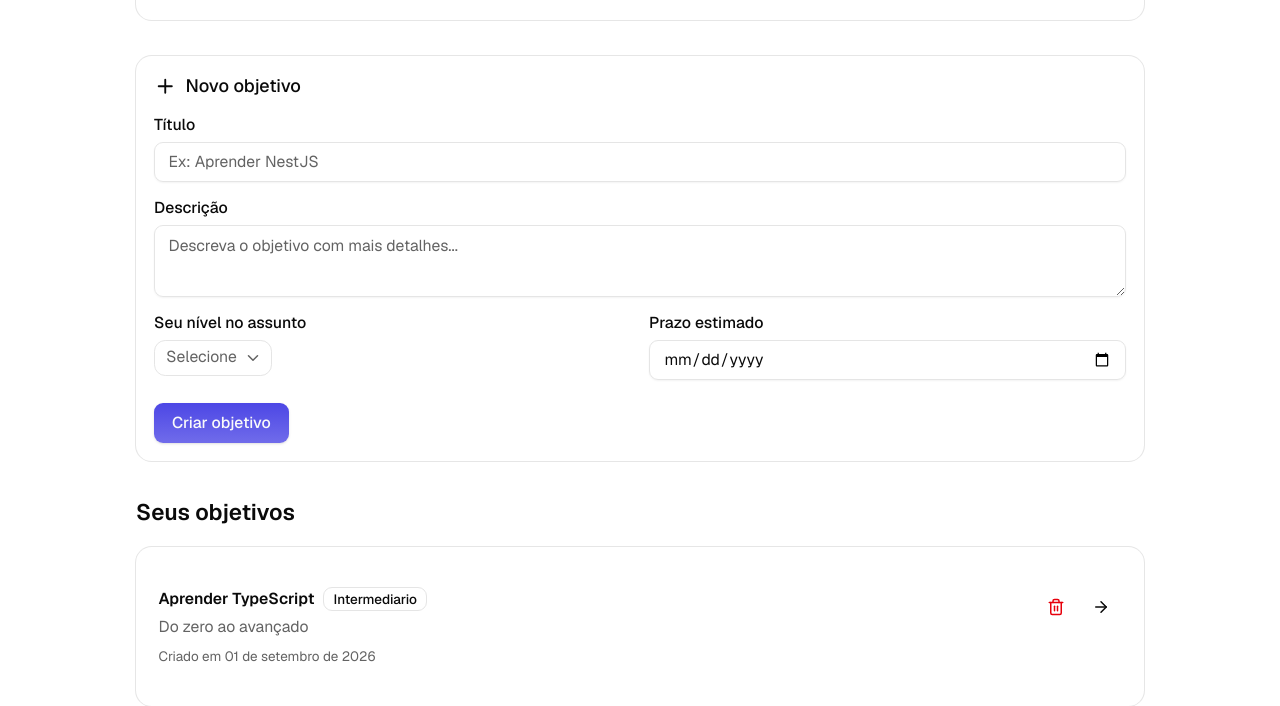
Página de Objetivos › exclui o objetivo após confirmação no dialog
(page scrolled)
Click the button named "Excluir objetivo Aprender TypeScript" at (1056, 607), box [1036,587,1076,628]
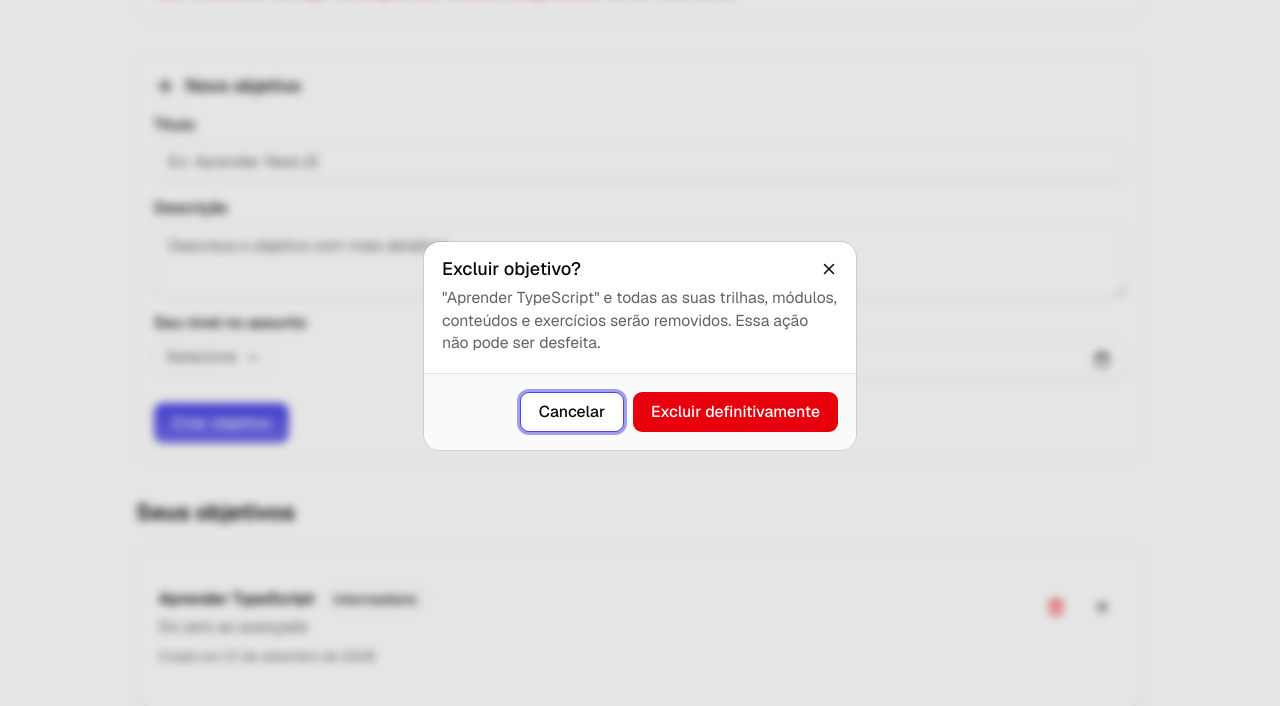
Expected: the heading "Excluir objetivo?" is shown, [442,257,581,280]
Click the button "Excluir definitivamente" at (736, 412), box [633,392,838,432]
(page scrolled)
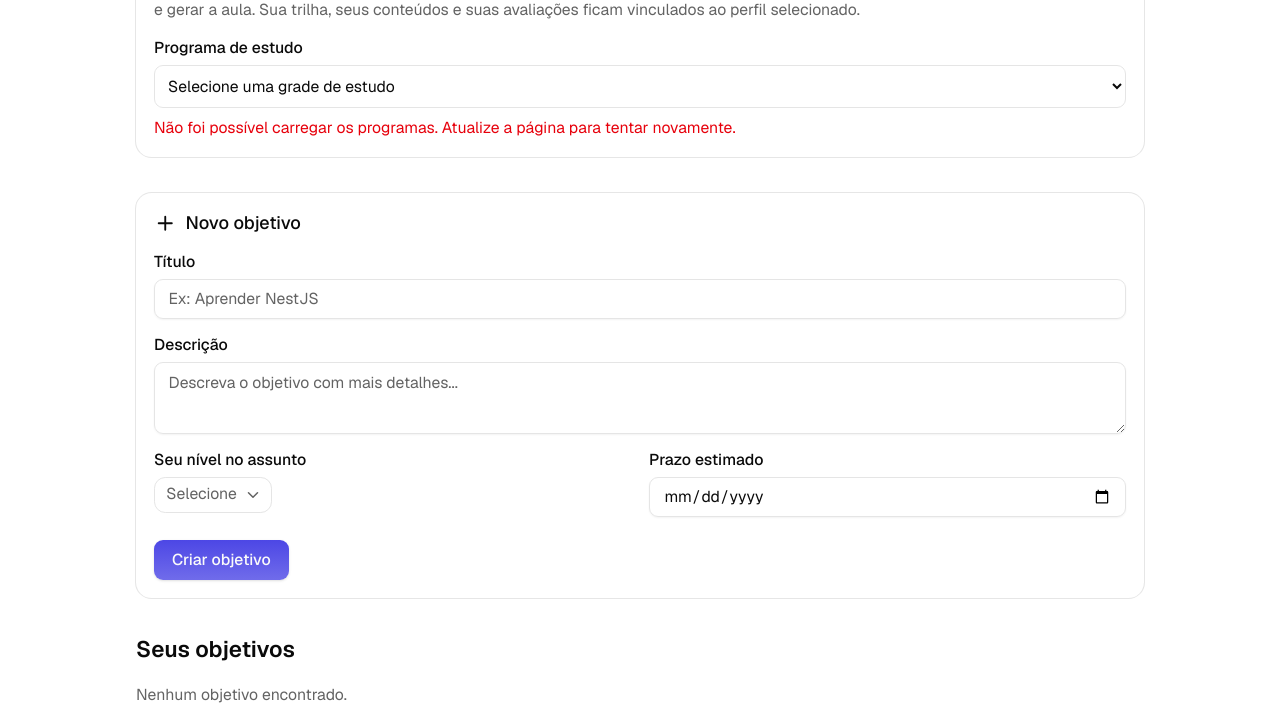
Expected: the heading "Aprender TypeScript" is gone
